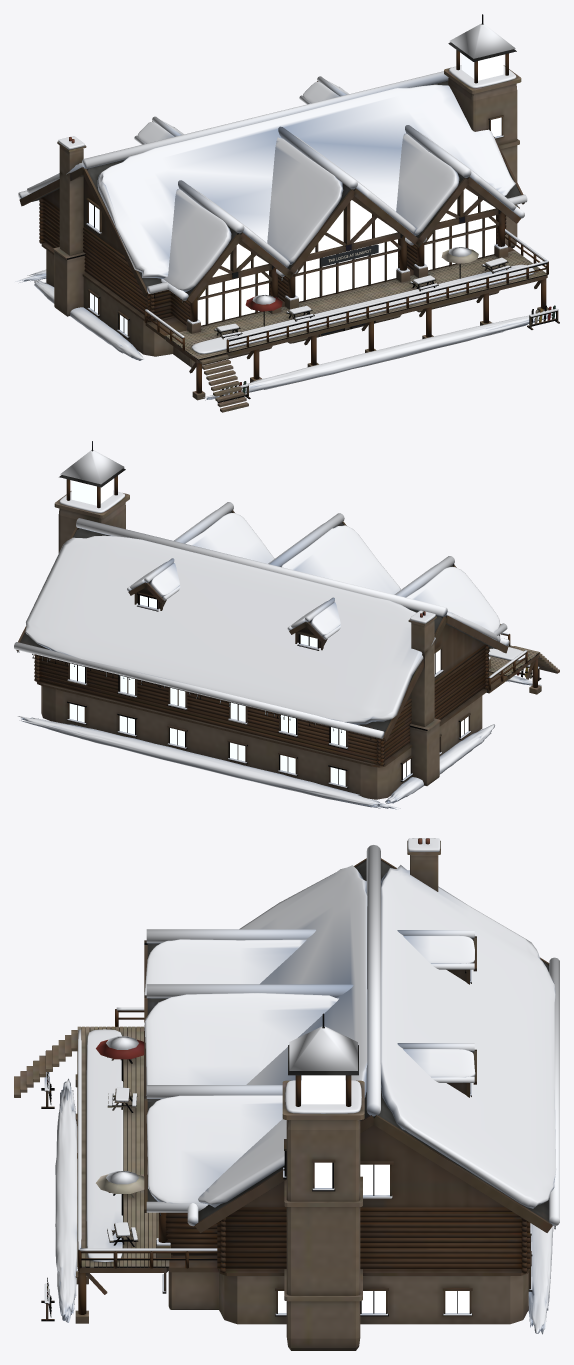
The model's file is sunspot_lodge.glb.
3 views of the same model, one above another, from view 1: azimuth 30°, elevation 25°; view 2: azimuth 150°, elevation 25°; view 3: azimuth 270°, elevation 25° (orthographic). The views are drawn at different scales.
Visible parts, largest first — view 1: sunspot_lodge_snow, sunspot_lodge, sunspot_lodge_lit; view 2: sunspot_lodge_snow, sunspot_lodge, sunspot_lodge_lit; view 3: sunspot_lodge_snow, sunspot_lodge, sunspot_lodge_lit.
Part boxes in pixels (bbox=[...]): sunspot_lodge_snow: bbox=[15, 23, 558, 400]; sunspot_lodge: bbox=[19, 14, 559, 412]; sunspot_lodge_lit: bbox=[89, 54, 503, 334]; sunspot_lodge_snow: bbox=[14, 450, 541, 809]; sunspot_lodge: bbox=[16, 441, 559, 799]; sunspot_lodge_lit: bbox=[69, 479, 468, 785]; sunspot_lodge_snow: bbox=[44, 838, 559, 1334]; sunspot_lodge: bbox=[14, 838, 555, 1350]; sunspot_lodge_lit: bbox=[278, 1075, 469, 1313].
Bounding box in the file's own units: 40.59 × 21.59 × 32.59.
4 materials, 1 textured.
